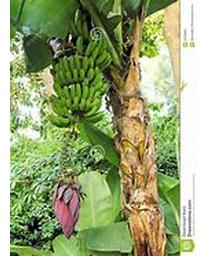banana: (51, 20, 111, 134)
